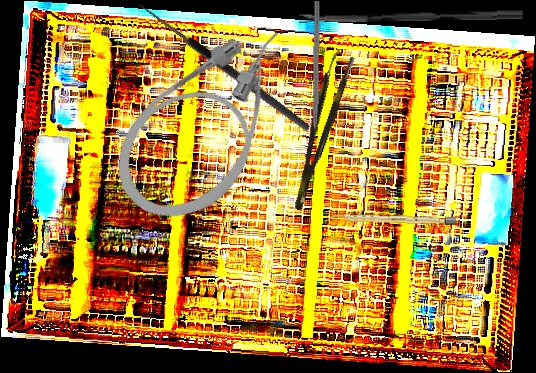Cannula: (90, 3, 333, 246)
Chopper: (303, 0, 321, 150)
Hook Surgical: (129, 0, 313, 141)
Scalpel Handle: (329, 212, 457, 226)
Surgical Spoon: (298, 9, 524, 23)
Tissue Forceps: (280, 50, 356, 212)
